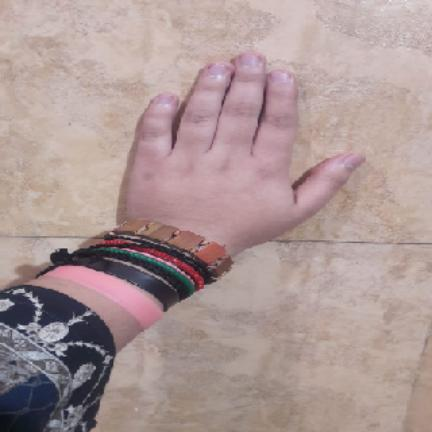Nail: (343, 154, 365, 170), (238, 52, 261, 65), (270, 70, 291, 83), (208, 62, 226, 75), (154, 92, 173, 104)
